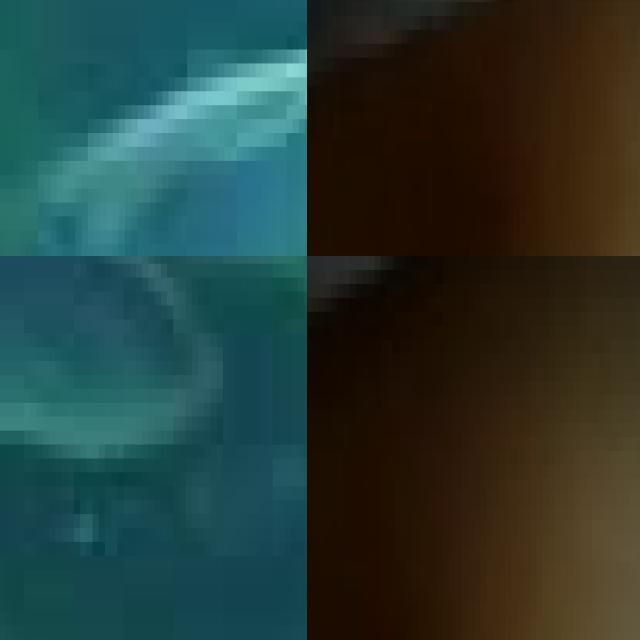fish: (307, 0, 640, 256), (0, 0, 307, 256)
